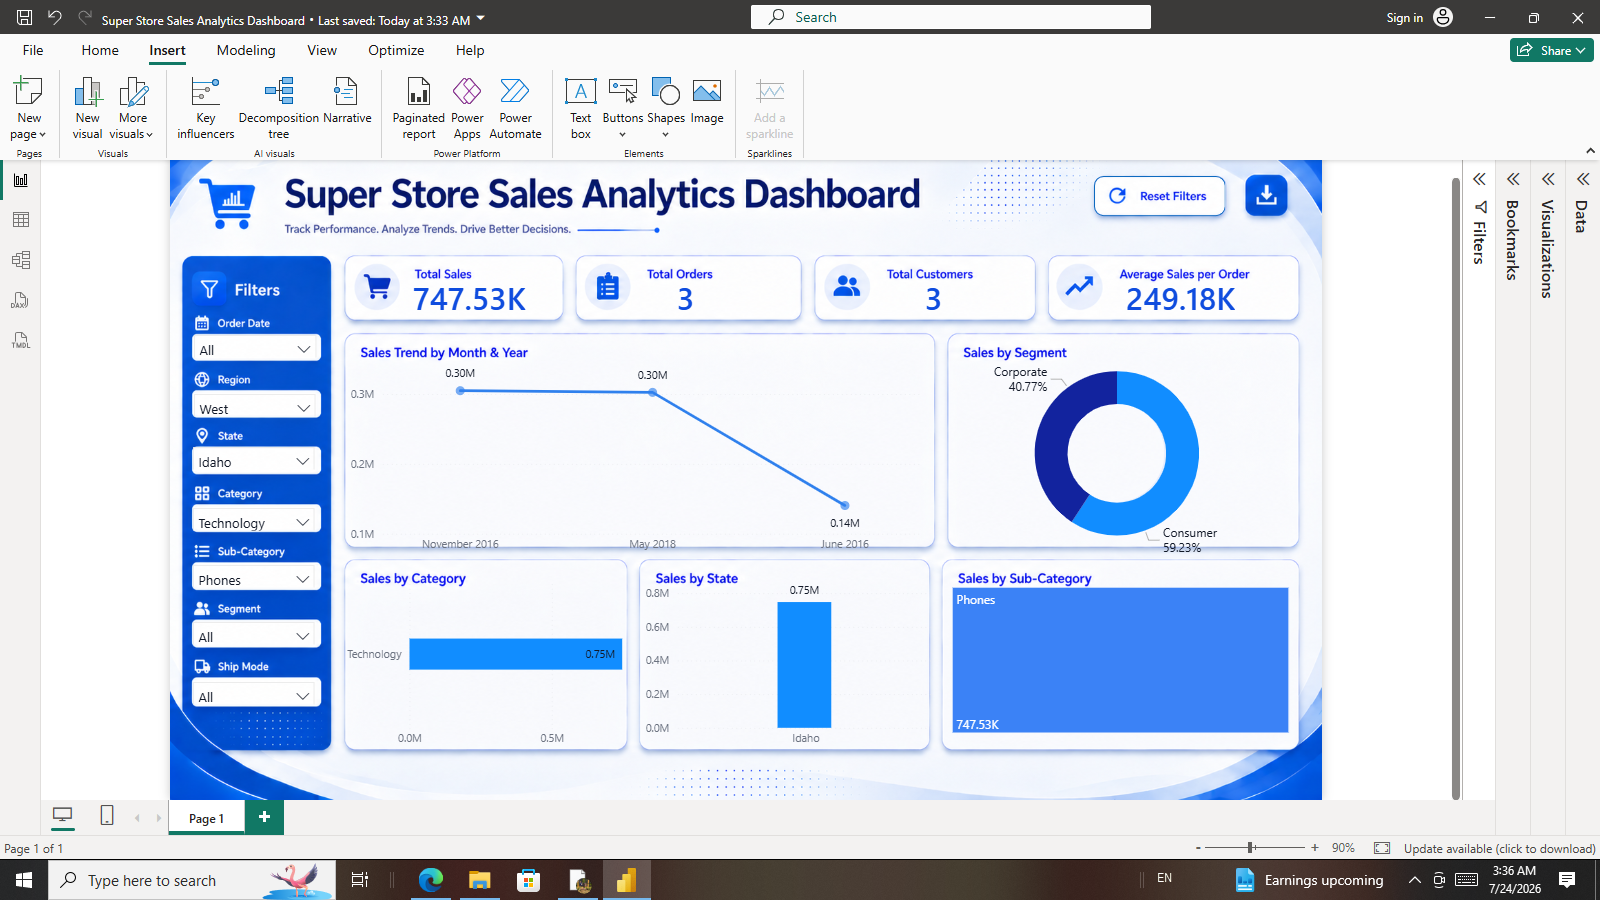

This screenshot's page, from the dashboard's own definition file:
{"tool":"powerbi","page":{"name":"Page 1","canvas":[1280,720],"ordinal":0},"visuals":[{"type":"cardVisual","fields":{"Data":["Superstore_Sales_Dataset.Total Sales"]},"box":[241.6,119.5,199.2,79.7],"z":0},{"type":"cardVisual","fields":{"Data":["Superstore_Sales_Dataset.Total Orders"]},"box":[534.6,119.5,164.5,79.7],"z":1000},{"type":"cardVisual","fields":{"Data":["Superstore_Sales_Dataset.Total Customers"]},"box":[809.6,119.5,164.5,79.7],"z":2000},{"type":"cardVisual","fields":{"Data":["Superstore_Sales_Dataset.Average Sales"]},"box":[1033.3,119.5,194.1,79.7],"z":3000},{"type":"lineChart","fields":{"Category":["Superstore_Sales_Dataset.Month & Year Order"],"Y":["Sum(Superstore_Sales_Dataset.Sales)"]},"box":[190.2,210.8,655.4,248],"z":4000},{"type":"donutChart","fields":{"Y":["Sum(Superstore_Sales_Dataset.Sales)"],"Category":["Superstore_Sales_Dataset.Segment"]},"box":[876.5,196.6,350.8,276.3],"z":5000},{"type":"clusteredBarChart","fields":{"Category":["Superstore_Sales_Dataset.Category"],"Y":["Sum(Superstore_Sales_Dataset.Sales)"]},"box":[181.2,458.8,383,215.9],"z":6000},{"type":"clusteredColumnChart","fields":{"Category":["Superstore_Sales_Dataset.State"],"Y":["Sum(Superstore_Sales_Dataset.Sales)"]},"box":[517.9,458.8,340.6,215.9],"z":7000},{"type":"treemap","fields":{"Group":["Superstore_Sales_Dataset.Sub-Category"],"Values":["Sum(Superstore_Sales_Dataset.Sales)"]},"box":[858.5,472.9,394.5,182.5],"z":8000},{"type":"slicer","fields":{"Values":["Superstore_Sales_Dataset.Order Date"]},"box":[16.1,192.8,155.6,35],"z":9000},{"type":"slicer","fields":{"Values":["Superstore_Sales_Dataset.Region"]},"box":[16.2,259.2,155.4,34.6],"z":10000},{"type":"slicer","fields":{"Values":["Superstore_Sales_Dataset.State"]},"box":[16,317.3,155.3,34.7],"z":11000},{"type":"slicer","fields":{"Values":["Superstore_Sales_Dataset.Category"]},"box":[16,385.3,155.3,34.7],"z":12000},{"type":"slicer","fields":{"Values":["Superstore_Sales_Dataset.Sub-Category"]},"box":[16,448.7,155.3,34.7],"z":13000},{"type":"slicer","fields":{"Values":["Superstore_Sales_Dataset.Segment"]},"box":[16,512,155.3,34.7],"z":14000},{"type":"slicer","fields":{"Values":["Superstore_Sales_Dataset.Ship Mode"]},"box":[16,578.7,155.3,34.7],"z":15000},{"type":"shape","box":[1026.9,26.2,146.2,44.6],"z":16000}]}

Visuals, with their boxes on the page's 1280x720 design canvas (x1, y1, x2, y2). These are canvas units, not pixel positions in the 1600x900 screenshot, which may show the page scaled, cropped or inside an application window:
cardVisual - Superstore_Sales_Dataset.Total Sales: (x1=242, y1=120, x2=441, y2=199)
cardVisual - Superstore_Sales_Dataset.Total Orders: (x1=535, y1=120, x2=699, y2=199)
cardVisual - Superstore_Sales_Dataset.Total Customers: (x1=810, y1=120, x2=974, y2=199)
cardVisual - Superstore_Sales_Dataset.Average Sales: (x1=1033, y1=120, x2=1227, y2=199)
lineChart - Superstore_Sales_Dataset.Month & Year Order x Sum(Superstore_Sales_Dataset.Sales): (x1=190, y1=211, x2=846, y2=459)
donutChart - Sum(Superstore_Sales_Dataset.Sales) x Superstore_Sales_Dataset.Segment: (x1=876, y1=197, x2=1227, y2=473)
clusteredBarChart - Superstore_Sales_Dataset.Category x Sum(Superstore_Sales_Dataset.Sales): (x1=181, y1=459, x2=564, y2=675)
clusteredColumnChart - Superstore_Sales_Dataset.State x Sum(Superstore_Sales_Dataset.Sales): (x1=518, y1=459, x2=858, y2=675)
treemap - Superstore_Sales_Dataset.Sub-Category x Sum(Superstore_Sales_Dataset.Sales): (x1=858, y1=473, x2=1253, y2=655)
slicer - Superstore_Sales_Dataset.Order Date: (x1=16, y1=193, x2=172, y2=228)
slicer - Superstore_Sales_Dataset.Region: (x1=16, y1=259, x2=172, y2=294)
slicer - Superstore_Sales_Dataset.State: (x1=16, y1=317, x2=171, y2=352)
slicer - Superstore_Sales_Dataset.Category: (x1=16, y1=385, x2=171, y2=420)
slicer - Superstore_Sales_Dataset.Sub-Category: (x1=16, y1=449, x2=171, y2=483)
slicer - Superstore_Sales_Dataset.Segment: (x1=16, y1=512, x2=171, y2=547)
slicer - Superstore_Sales_Dataset.Ship Mode: (x1=16, y1=579, x2=171, y2=613)
shape: (x1=1027, y1=26, x2=1173, y2=71)
